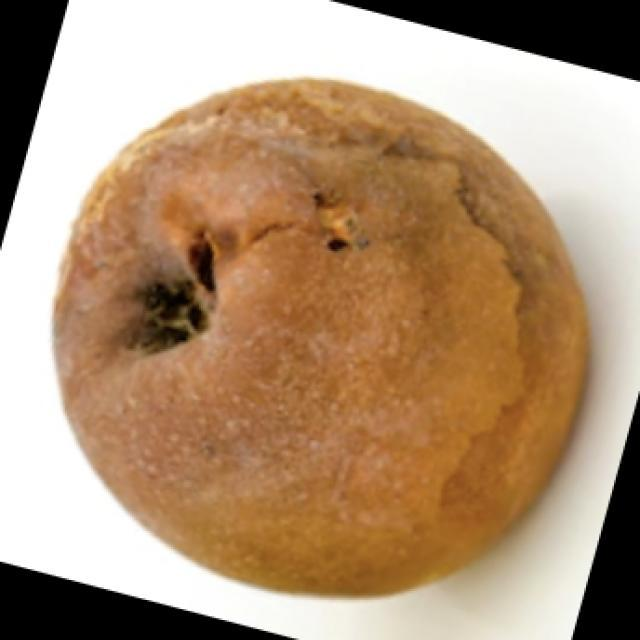Rotten: (66, 58, 579, 640)
